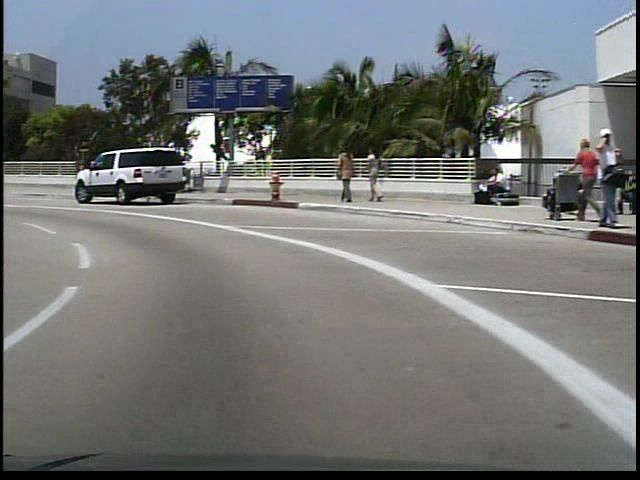person: (565, 133, 595, 226), (333, 140, 354, 208), (361, 146, 384, 205), (474, 167, 505, 207)
